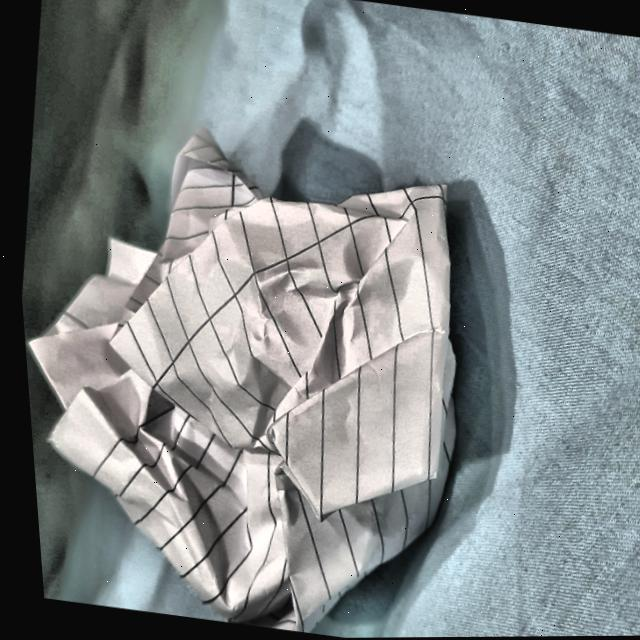paper: (6, 105, 499, 640)
